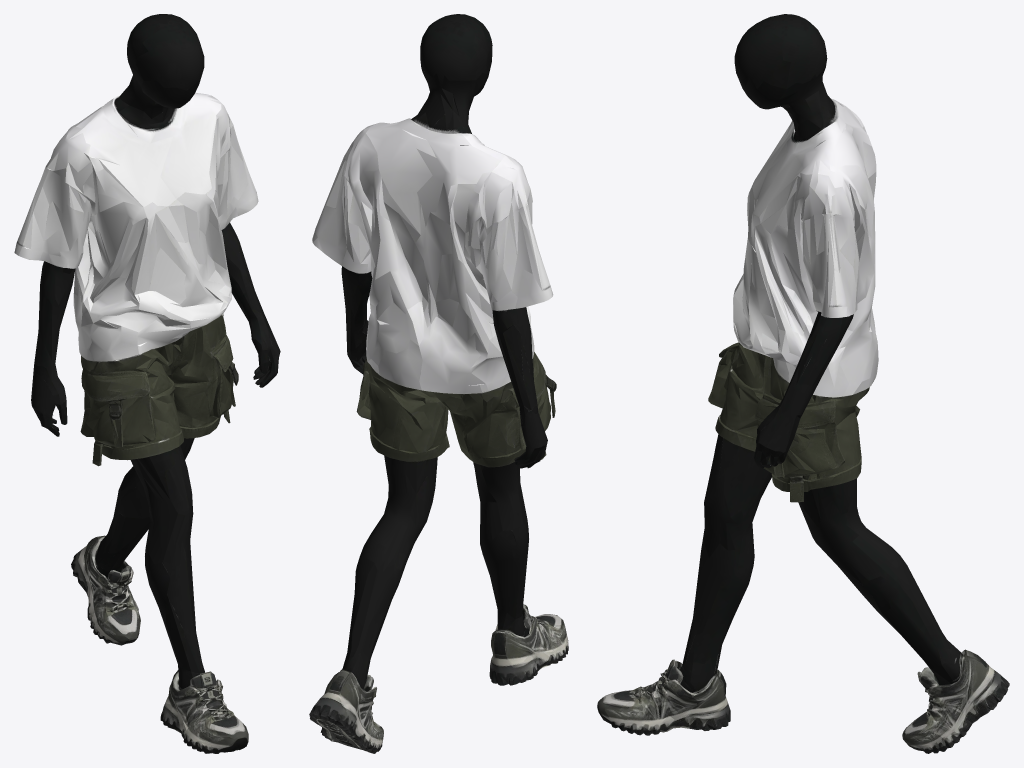
File: femme-cargo.glb
The picture shows the model from 3 angles, left to right: view 1: azimuth 30°, elevation 25°; view 2: azimuth 150°, elevation 25°; view 3: azimuth 270°, elevation 25°; orthographic projection. The views are drawn at different scales.
Visible parts, largest first — view 1: dressed; view 2: dressed; view 3: dressed.
Boxes of the visible parts, left/top/right/bottom form: dressed: left=14, top=14, right=280, bottom=753; dressed: left=309, top=14, right=568, bottom=753; dressed: left=597, top=14, right=1009, bottom=753.
Bounding box in the file's own units: 0.6316 × 1.72 × 0.8973.
Materials: 1 (1 with a texture image).
